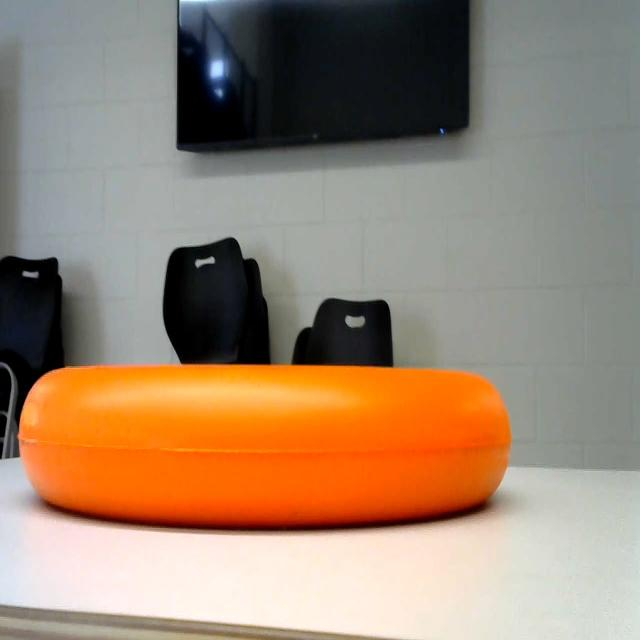note: (9, 338, 540, 554)
